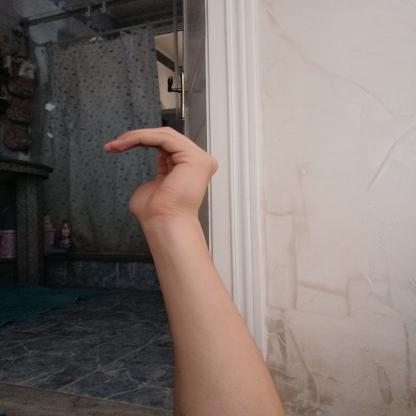HAA: (88, 119, 229, 226)
